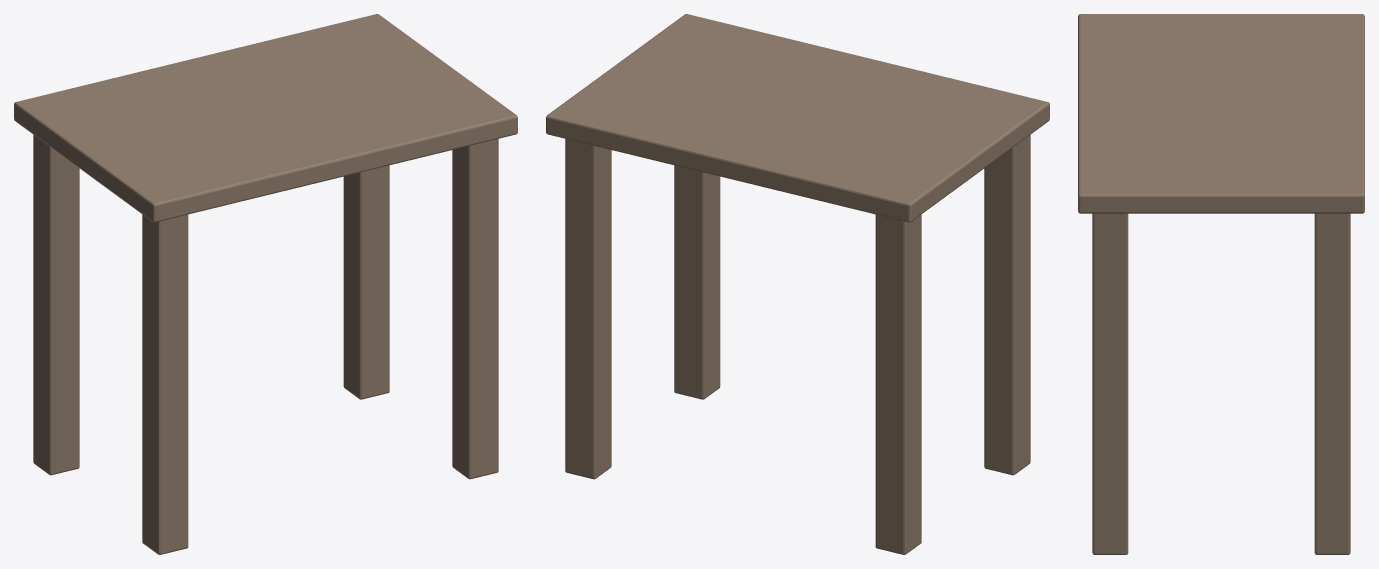
The model's file is side_table.glb.
3 renders of one model, left to right at view 1: azimuth 30°, elevation 25°; view 2: azimuth 150°, elevation 25°; view 3: azimuth 270°, elevation 25°, orthographic. The views are drawn at different scales.
Parts seen in each view (by area): view 1: Gen_Tabletop, Gen_Leg_0, Gen_Leg_1, Gen_Leg_2, Gen_Leg_3; view 2: Gen_Tabletop, Gen_Leg_2, Gen_Leg_3, Gen_Leg_0, Gen_Leg_1; view 3: Gen_Tabletop, Gen_Leg_1, Gen_Leg_3.
Boxes of the visible parts, x1=… form: Gen_Tabletop: x1=14, y1=14, x2=517, y2=222; Gen_Leg_0: x1=142, y1=214, x2=188, y2=554; Gen_Leg_1: x1=452, y1=139, x2=498, y2=479; Gen_Leg_2: x1=33, y1=135, x2=79, y2=475; Gen_Leg_3: x1=343, y1=165, x2=389, y2=399; Gen_Tabletop: x1=546, y1=14, x2=1049, y2=222; Gen_Leg_2: x1=875, y1=214, x2=921, y2=554; Gen_Leg_3: x1=565, y1=139, x2=611, y2=479; Gen_Leg_0: x1=984, y1=135, x2=1030, y2=475; Gen_Leg_1: x1=674, y1=165, x2=720, y2=399; Gen_Tabletop: x1=1078, y1=14, x2=1364, y2=213; Gen_Leg_1: x1=1092, y1=213, x2=1128, y2=554; Gen_Leg_3: x1=1314, y1=213, x2=1350, y2=554.
Size of the model in its own units: 0.6 by 0.565 by 0.4.
